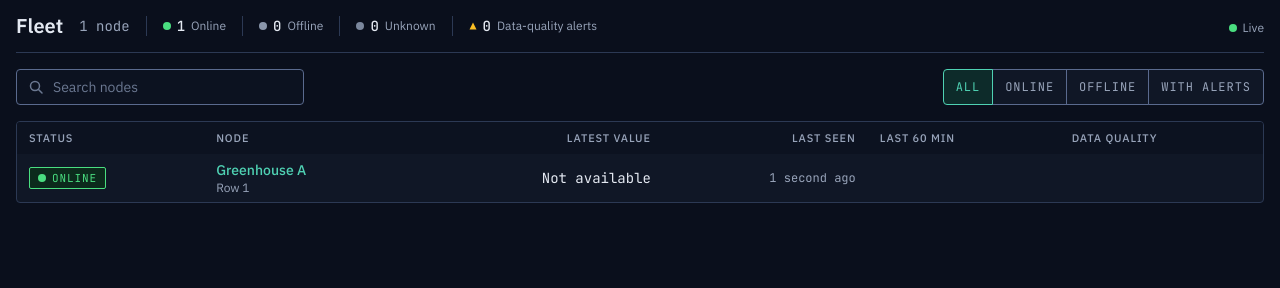
Test: FleetContainer › shows a "no matches" empty state when the filter narrows the rows to zero, keeping the filters visible
Type "no such node" into the field labelled "Search nodes".
click(160, 87); type("no such node")  # box [16,69,304,105]
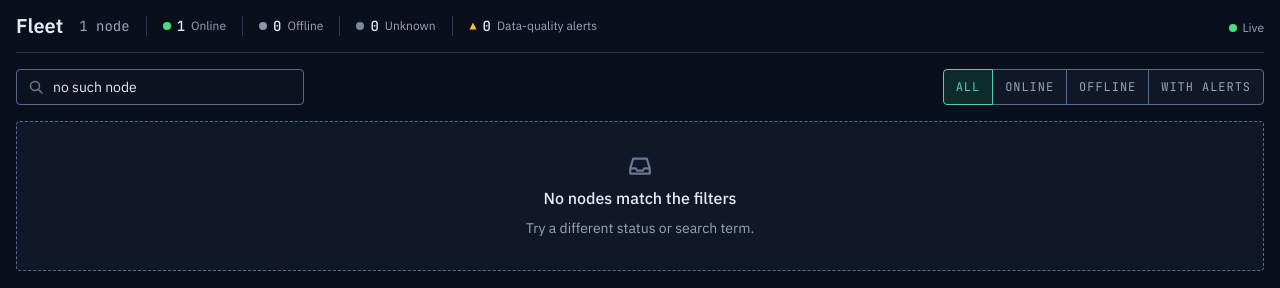
expect the button "All" is shown: met, box [943,69,993,105]
expect the table is gone: met
expect the text "No nodes match the filters" is shown: met, box [544,186,736,210]
